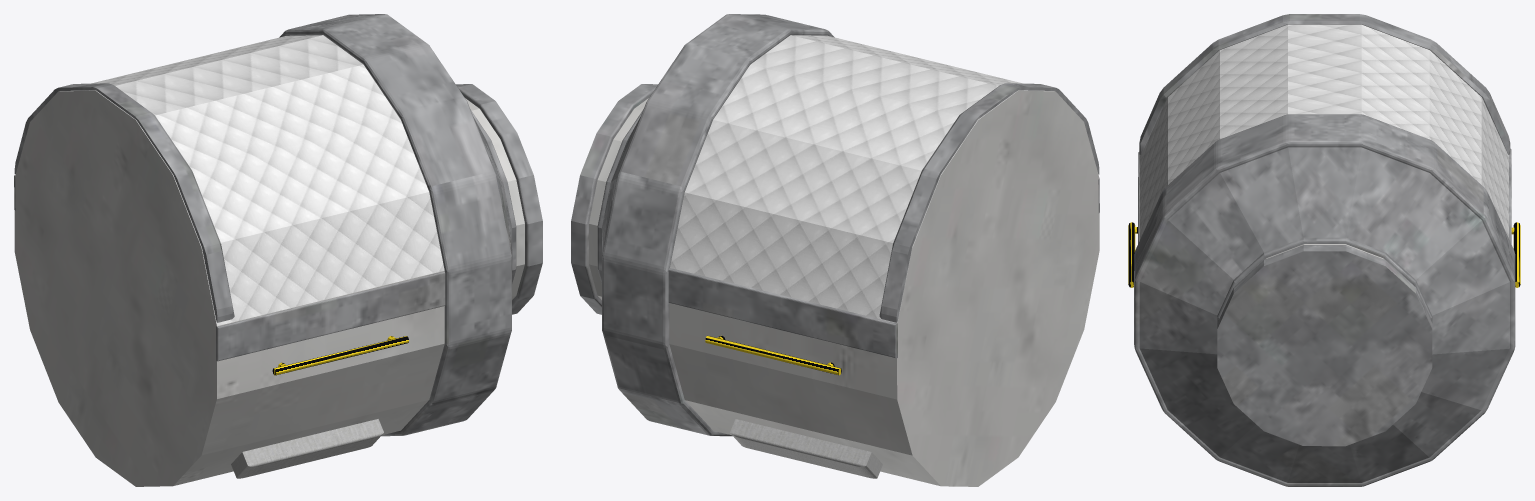
Rendered from Module-3-Edgepiece.glb.
The picture shows the model from 3 angles, left to right: view 1: azimuth 30°, elevation 25°; view 2: azimuth 150°, elevation 25°; view 3: azimuth 270°, elevation 25°; orthographic projection. The views are drawn at different scales.
Parts seen in each view (by area): view 1: Hull, Hull.001, Protection, Hull Bars, Cylinder.001, Cube.003, Bar; view 2: Hull, Hull.001, Protection, Hull Bars, Cylinder.001, Cube.003, Bar.001; view 3: Protection, Hull.001, Cylinder.001, Bar, Hull Bars, Bar.001.
Boxes of the visible parts, <box> form: Hull: <box>14,90,524,486</box>; Hull.001: <box>60,35,444,325</box>; Protection: <box>279,14,542,436</box>; Hull Bars: <box>14,175,445,361</box>; Cylinder.001: <box>14,83,234,322</box>; Cube.003: <box>231,419,383,478</box>; Bar: <box>272,336,408,375</box>; Hull: <box>589,90,1099,486</box>; Hull.001: <box>670,35,1054,323</box>; Protection: <box>571,14,834,436</box>; Hull Bars: <box>668,179,1099,358</box>; Cylinder.001: <box>879,83,1099,322</box>; Cube.003: <box>730,419,882,478</box>; Bar.001: <box>705,335,841,375</box>; Protection: <box>1134,114,1515,486</box>; Hull.001: <box>1139,24,1508,240</box>; Cylinder.001: <box>1139,14,1510,154</box>; Bar: <box>1128,222,1137,287</box>; Hull Bars: <box>1138,148,1511,243</box>; Bar.001: <box>1511,222,1520,287</box>.
Bounding box in the file's own units: 12 × 11.76 × 12.09.
7 materials, 7 textured.
